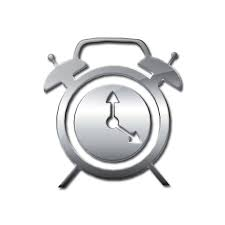alarm_clock: (43, 34, 182, 186), (43, 38, 182, 186)
